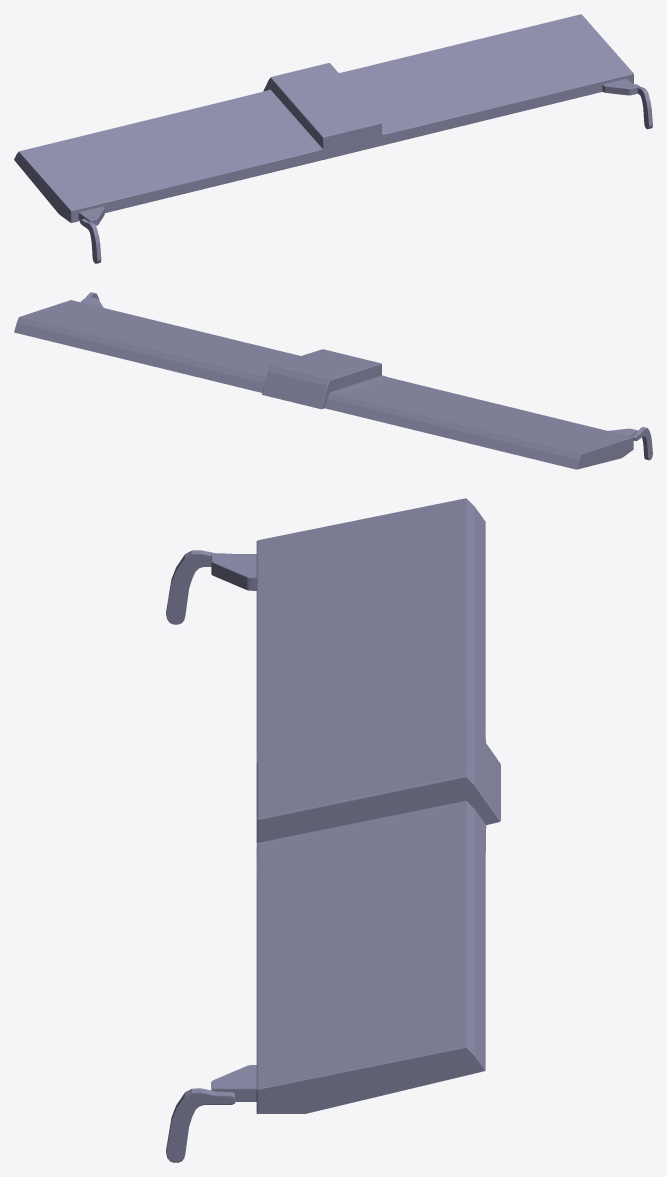
The model's file is back_door_LowPoly.obj.
The picture shows the model from 3 angles, top to bottom: view 1: azimuth 30°, elevation 25°; view 2: azimuth 150°, elevation 25°; view 3: azimuth 270°, elevation 25°; orthographic projection. The views are drawn at different scales.
Visible parts, largest first — view 1: back_door_LowPoly\Facets; view 2: back_door_LowPoly\Facets; view 3: back_door_LowPoly\Facets.
Part boxes in pixels (x1,y1,x2,y2): back_door_LowPoly\Facets: (14, 14, 652, 263); back_door_LowPoly\Facets: (14, 292, 652, 469); back_door_LowPoly\Facets: (166, 498, 500, 1162).
Size of the model in its own units: 2.9 by 0.3569 by 0.7463.
